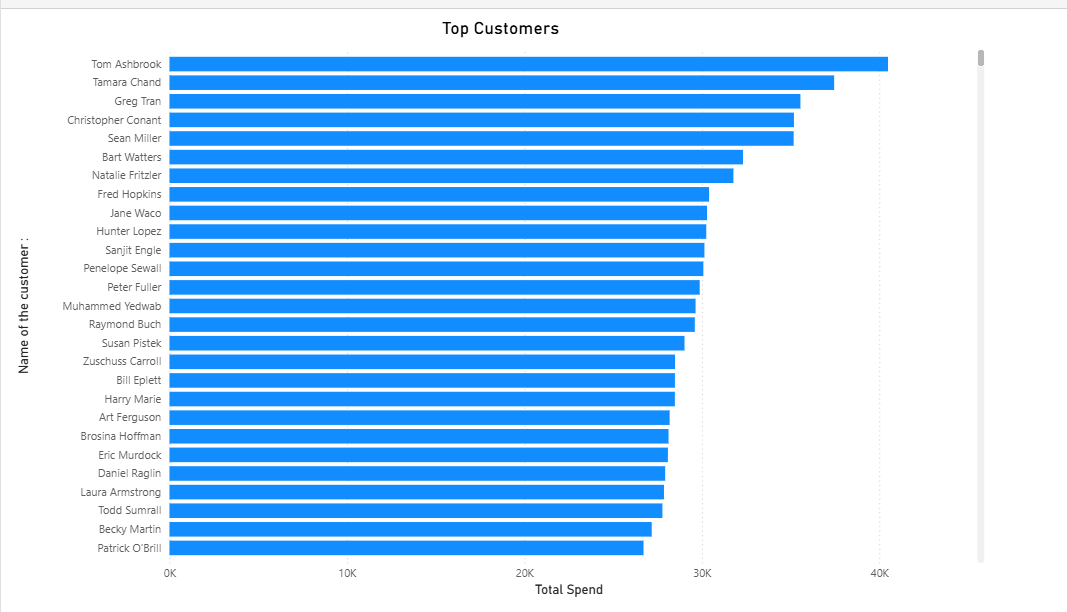

The page's visual inventory and layout, read from the dashboard file:
{"tool":"powerbi","page":{"name":"Top Customers","canvas":[1280,720],"ordinal":1},"visuals":[{"type":"barChart","title":"Top Customers","fields":{"Category":["orders.customer_name"],"Y":["Sum(orders.sales)"]},"box":[12.5,55,1072.5,641.2],"z":0}]}

Visuals, with their boxes in screenshot pixels (x1, y1, x2, y2), scaled from the page's 1280x720 canvas onto the 1067x612 screenshot:
"Top Customers" barChart: bbox=(10, 47, 904, 592)
